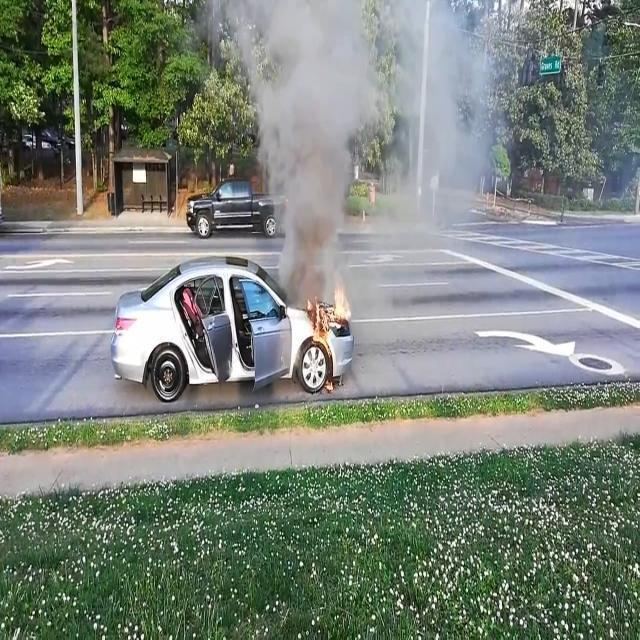fire: (302, 287, 358, 394)
